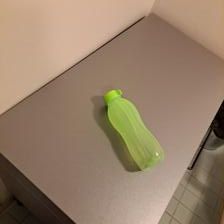bottle: (98, 87, 167, 171)
